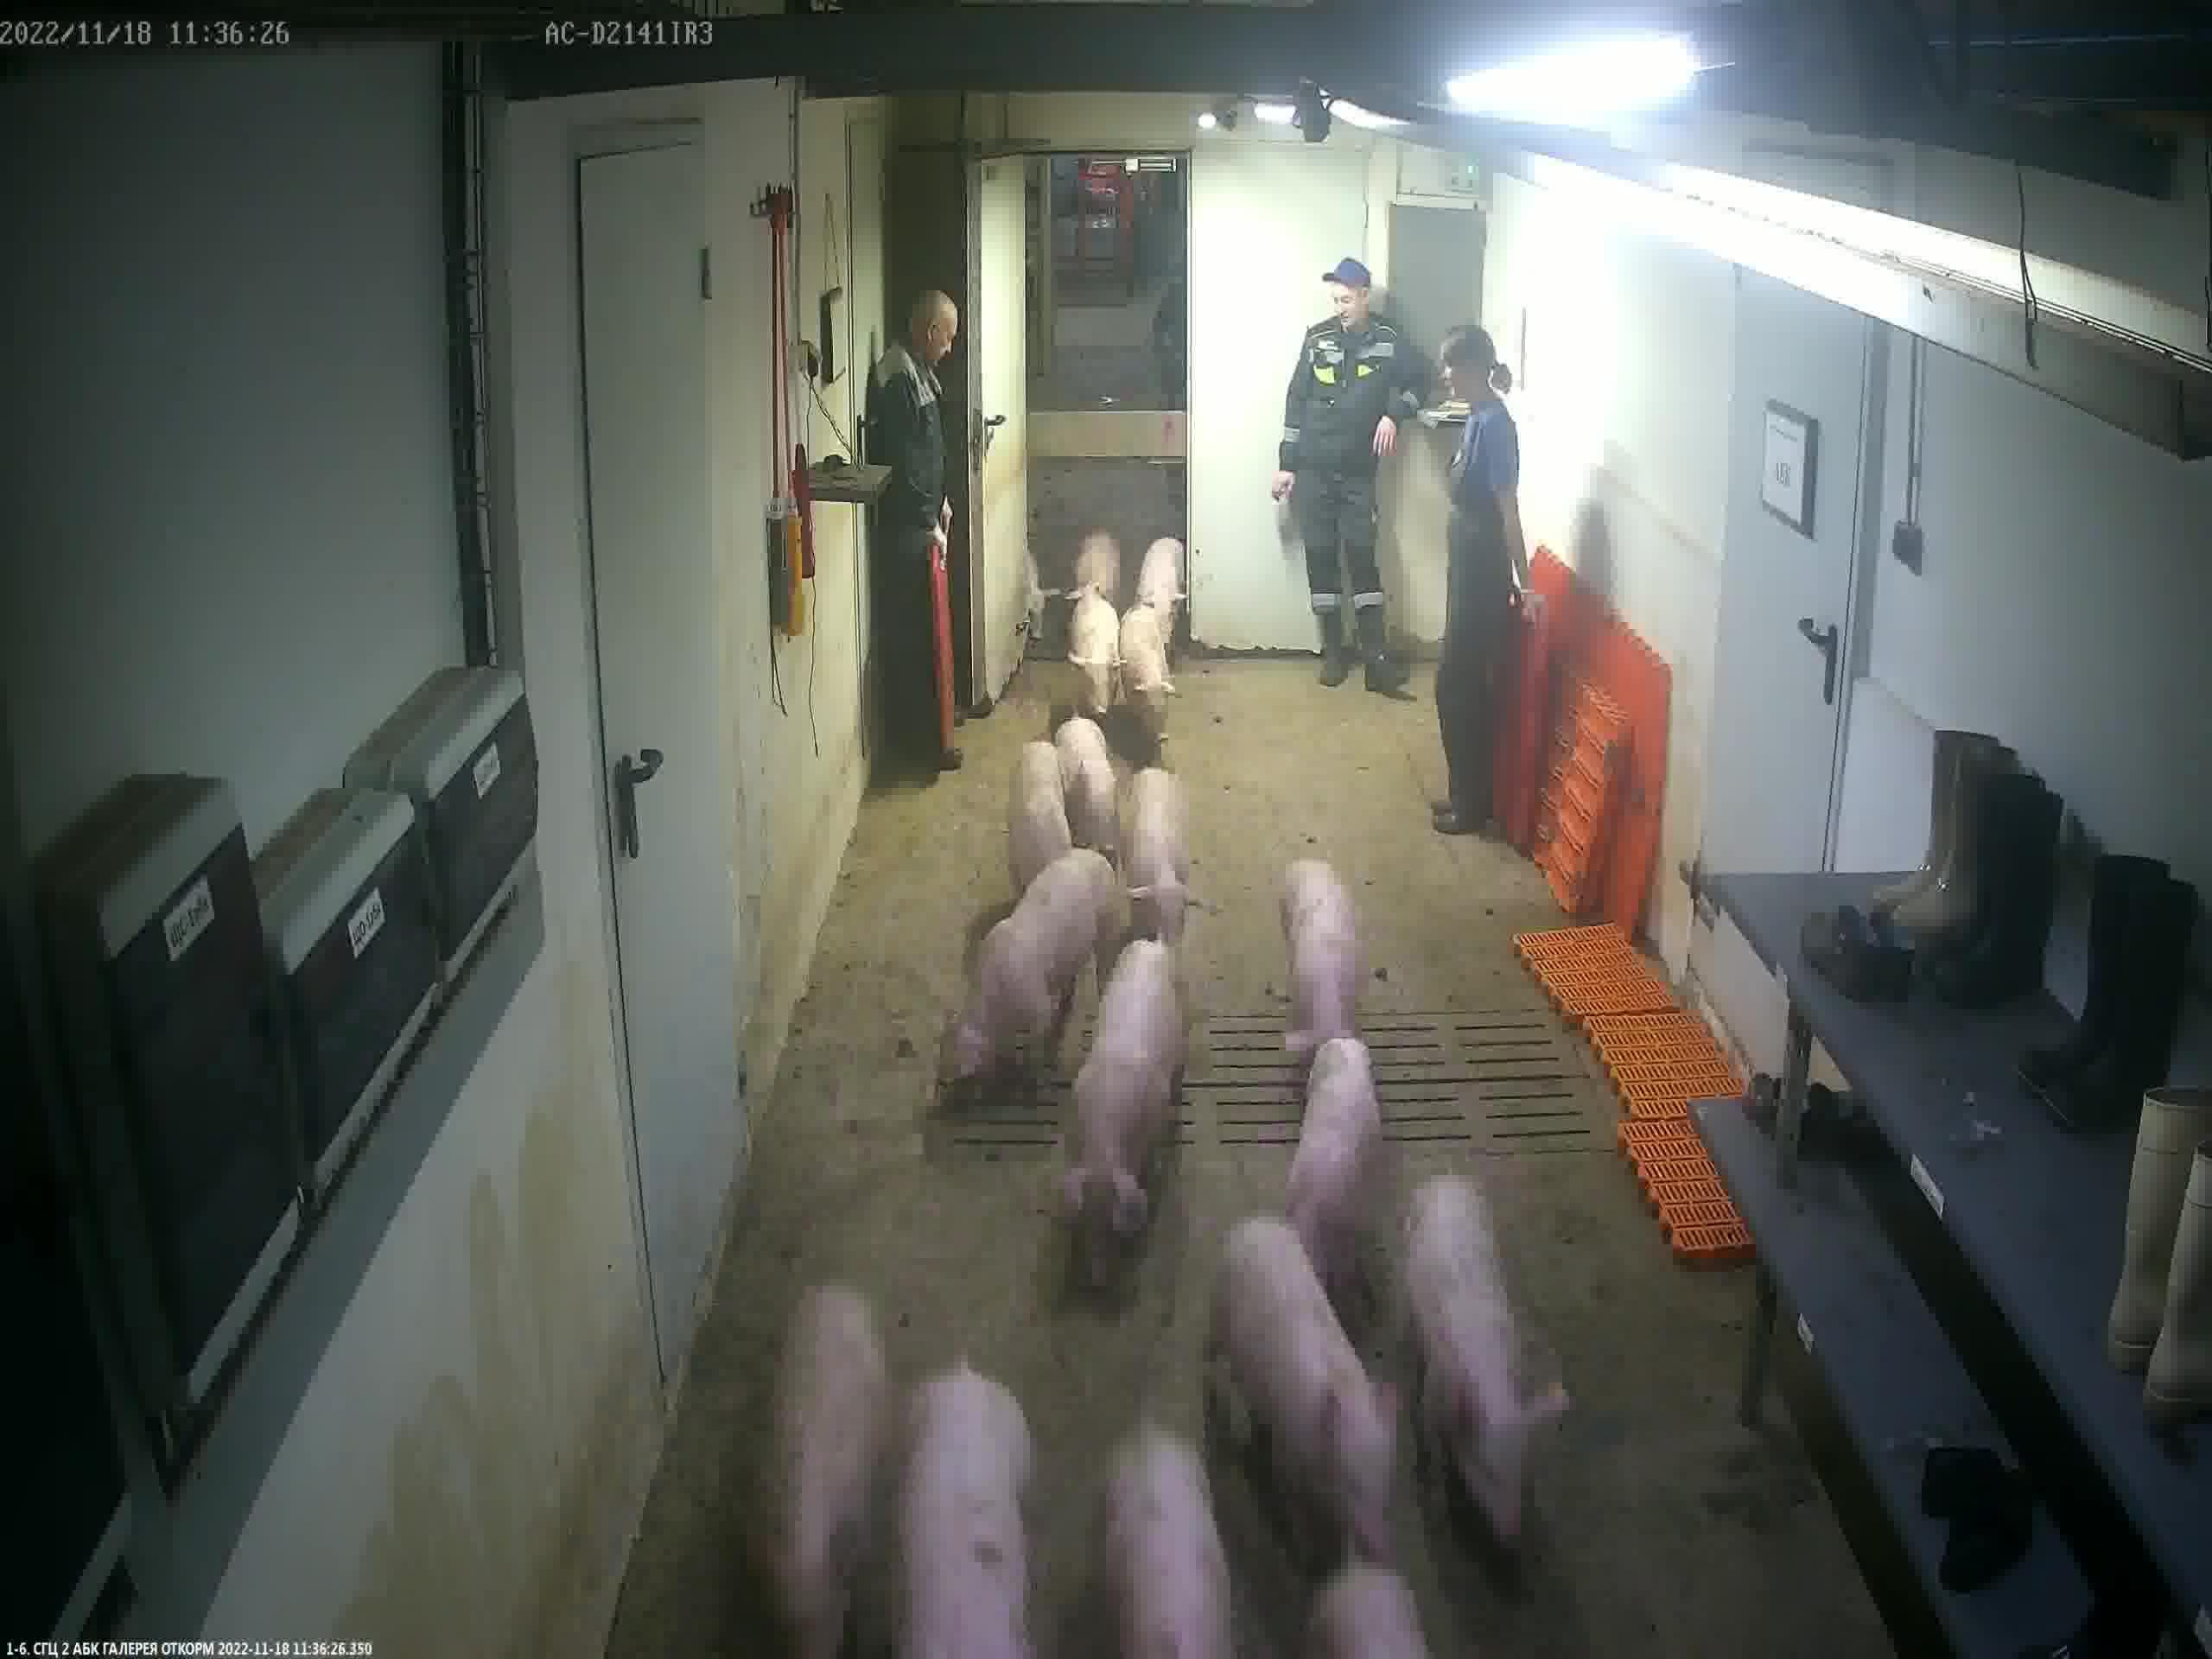Pigs: (1402, 1178, 1562, 1575), (1223, 1220, 1395, 1563), (937, 849, 1132, 1115), (1061, 938, 1190, 1312), (772, 1291, 899, 1659), (899, 1363, 1036, 1659), (1108, 1427, 1235, 1659), (1285, 1039, 1383, 1290), (1120, 763, 1207, 955), (1284, 859, 1360, 1051), (1313, 1560, 1432, 1659), (1054, 718, 1123, 857), (1010, 741, 1071, 885), (1069, 594, 1118, 721), (1141, 538, 1186, 666), (1123, 608, 1162, 725), (1076, 540, 1123, 598)
